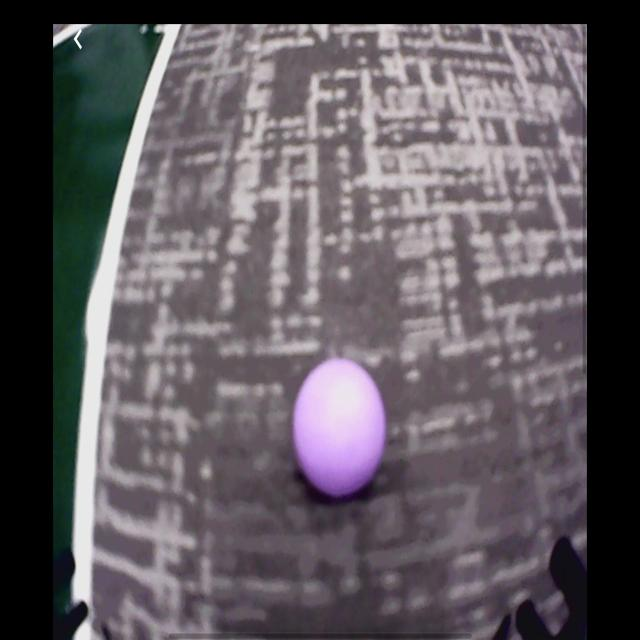ball: (292, 358, 385, 500)
